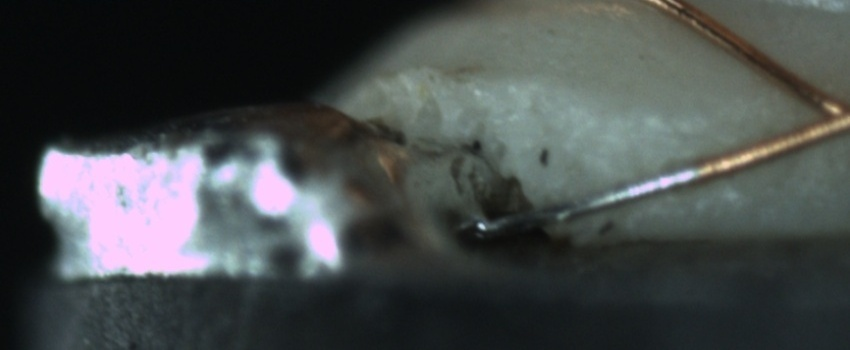CL: (776, 74, 849, 154)
DL: (580, 102, 739, 155)
TS: (481, 166, 700, 236)
